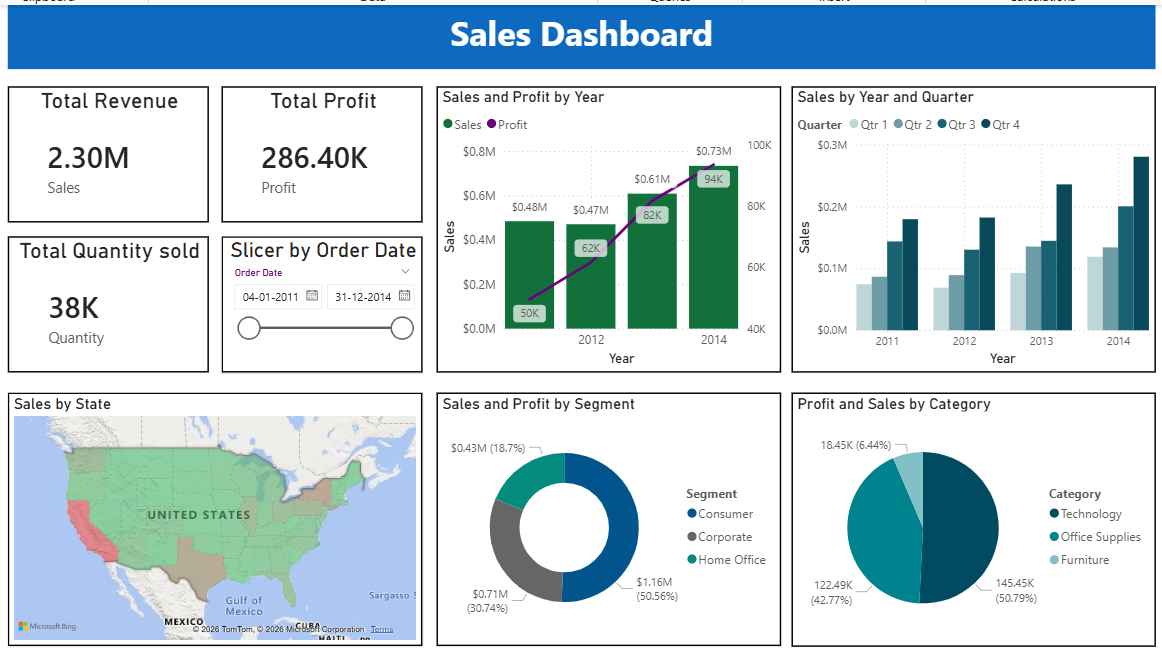

What the dashboard file says about the page in this screenshot:
{"tool":"powerbi","page":{"name":"Overall Sales","canvas":[1280,720],"ordinal":0},"visuals":[{"type":"textbox","box":[10,0,1260,70],"z":0},{"type":"cardVisual","title":"Total Revenue","fields":{"Data":["Sum(Superstore_sales_dataset.Sales)"]},"box":[9.6,89.2,220.9,149.6],"z":1000},{"type":"cardVisual","title":"Total Quantity sold","fields":{"Data":["Sum(Superstore_sales_dataset.Quantity)"]},"box":[9.6,253.9,220.9,149.6],"z":2000},{"type":"cardVisual","title":"Total Profit","fields":{"Data":["Sum(Superstore_sales_dataset.Profit)"]},"box":[244.3,89.2,220.9,149.6],"z":3000},{"type":"slicer","title":"Slicer by Order Date","fields":{"Values":["Superstore_sales_dataset.Order Date"]},"box":[244.3,253.9,220.9,149.6],"z":4000},{"type":"lineStackedColumnComboChart","fields":{"Y":["Sum(Superstore_sales_dataset.Sales)"],"Category":["Superstore_sales_dataset.Order Date.Variation.Date Hierarchy.Year","Superstore_sales_dataset.Order Date.Variation.Date Hierarchy.Quarter","Superstore_sales_dataset.Order Date.Variation.Date Hierarchy.Month","Superstore_sales_dataset.Order Date.Variation.Date Hierarchy.Day"],"Y2":["Sum(Superstore_sales_dataset.Profit)"]},"box":[480.3,89.2,378.7,314.2],"z":5000},{"type":"clusteredColumnChart","fields":{"Series":["Superstore_sales_dataset.Quarter"],"Y":["Sum(Superstore_sales_dataset.Sales)"],"Category":["Superstore_sales_dataset.Order Date.Variation.Date Hierarchy.Year"]},"box":[870,89,400,314],"z":6000},{"type":"filledMap","fields":{"Category":["Superstore_sales_dataset.State"]},"box":[9.6,425.4,455.6,278.6],"z":7000},{"type":"donutChart","fields":{"Category":["Superstore_sales_dataset.Segment"],"Y":["Sum(Superstore_sales_dataset.Sales)"]},"box":[480.3,425.4,378.7,278.6],"z":8000},{"type":"pieChart","fields":{"Category":["Superstore_sales_dataset.Category"],"Y":["Sum(Superstore_sales_dataset.Profit)"]},"box":[870,425,400,279],"z":9000}]}

Visuals, with their boxes on the page's 1280x720 design canvas (x1, y1, x2, y2). These are canvas units, not pixel positions in the 1162x661 screenshot, which may show the page scaled, cropped or inside an application window:
textbox: (x1=10, y1=0, x2=1270, y2=70)
"Total Revenue" cardVisual: (x1=10, y1=89, x2=230, y2=239)
"Total Quantity sold" cardVisual: (x1=10, y1=254, x2=230, y2=404)
"Total Profit" cardVisual: (x1=244, y1=89, x2=465, y2=239)
"Slicer by Order Date" slicer: (x1=244, y1=254, x2=465, y2=404)
lineStackedColumnComboChart - Sum(Superstore_sales_dataset.Sales) x Superstore_sales_dataset.Order Date.Variation.Date Hierarchy.Year: (x1=480, y1=89, x2=859, y2=403)
clusteredColumnChart - Superstore_sales_dataset.Quarter x Sum(Superstore_sales_dataset.Sales): (x1=870, y1=89, x2=1270, y2=403)
filledMap - Superstore_sales_dataset.State: (x1=10, y1=425, x2=465, y2=704)
donutChart - Superstore_sales_dataset.Segment x Sum(Superstore_sales_dataset.Sales): (x1=480, y1=425, x2=859, y2=704)
pieChart - Superstore_sales_dataset.Category x Sum(Superstore_sales_dataset.Profit): (x1=870, y1=425, x2=1270, y2=704)
